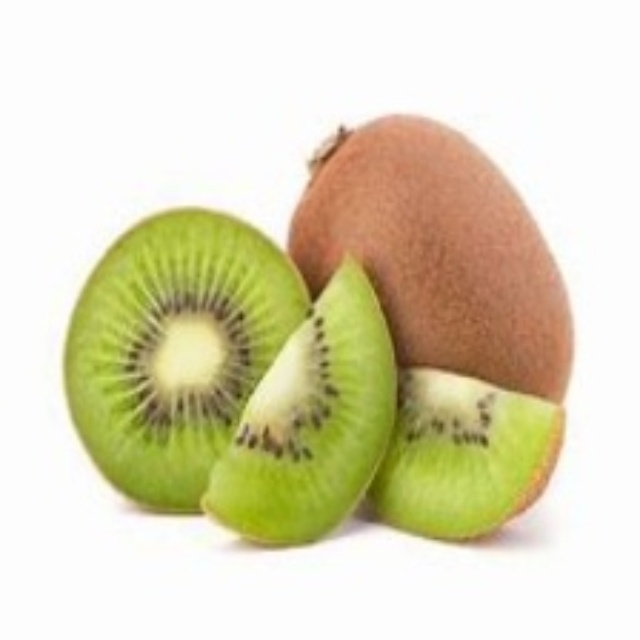kiwi: (197, 289, 570, 543), (296, 99, 591, 403), (46, 224, 319, 520)
